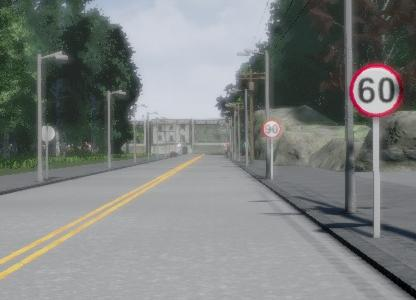Speed_60: (347, 60, 406, 120)
